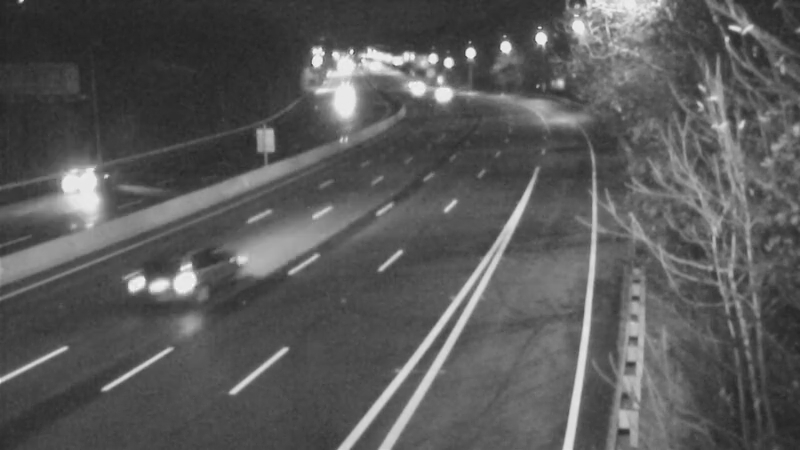vehicle: (121, 240, 201, 320), (38, 140, 118, 220), (393, 65, 443, 115), (416, 69, 466, 119), (318, 79, 368, 129)
